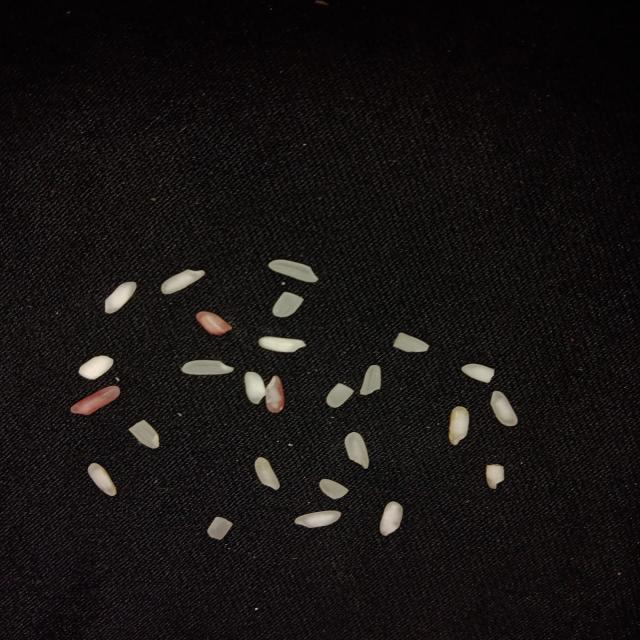Broken: (70, 386, 121, 415), (128, 420, 160, 449), (195, 310, 232, 335), (272, 290, 304, 318), (78, 355, 112, 379), (325, 382, 355, 407), (266, 374, 285, 413), (393, 333, 430, 352), (462, 362, 494, 383), (320, 478, 350, 500), (361, 365, 382, 395), (208, 516, 233, 540), (486, 464, 505, 489)
Full: (268, 258, 319, 282), (161, 268, 206, 294), (104, 282, 138, 314), (344, 431, 370, 470), (87, 463, 117, 496), (490, 391, 518, 426), (379, 500, 405, 536), (448, 406, 470, 446), (258, 335, 306, 353), (295, 512, 342, 530), (254, 457, 280, 489), (243, 371, 266, 405), (181, 360, 236, 374)
